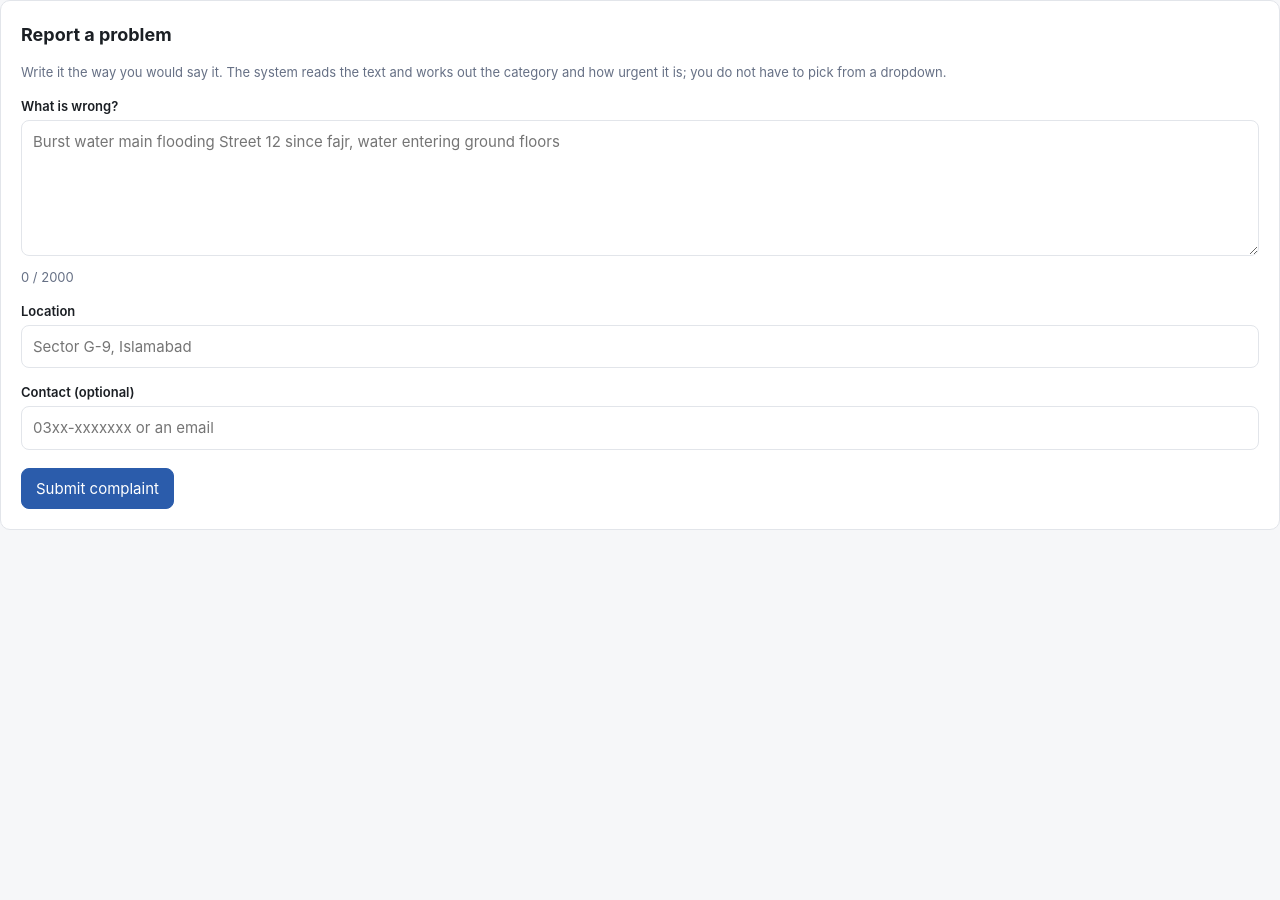
it: SubmitView › shows the 429 body and Retry-After rather than a generic failure
In the text box labelled "What is wrong?": [640, 188] box [21,120,1259,256], type "Street light out for three weeks now"
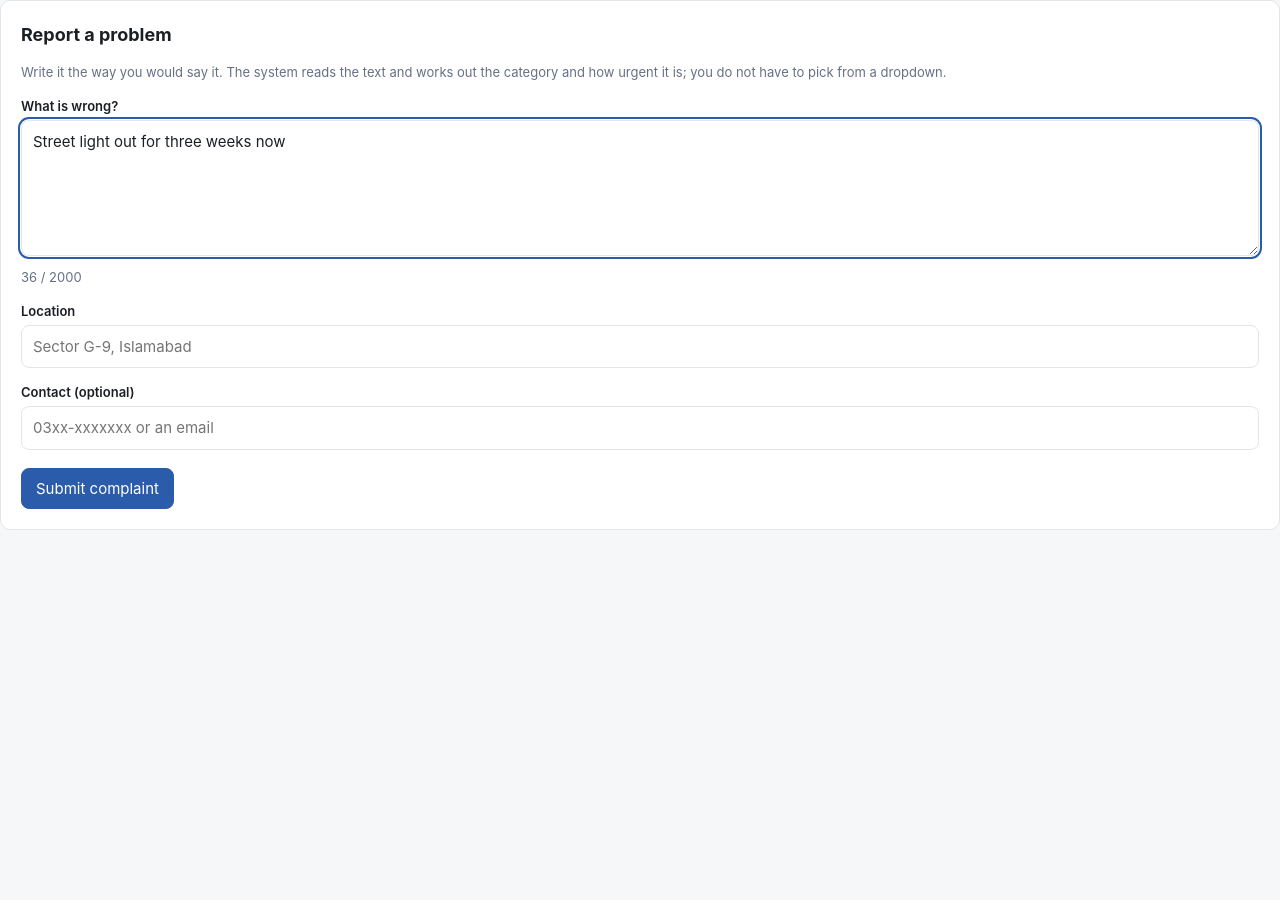
In the field labelled "Location": [640, 347] box [21,325,1259,368], type "Sector F-10"
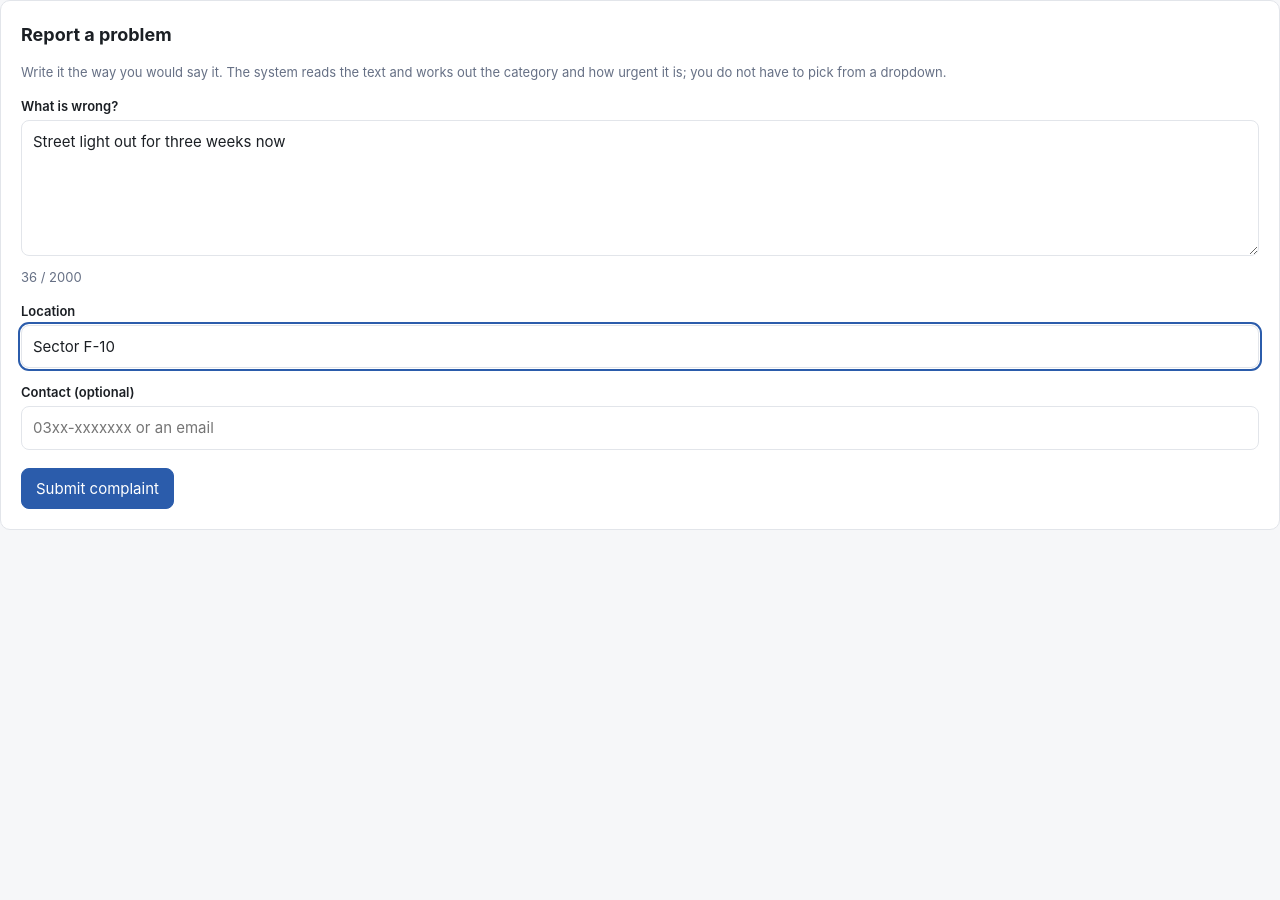
Click the button "Submit complaint": [97, 488] box [21,468,174,509]
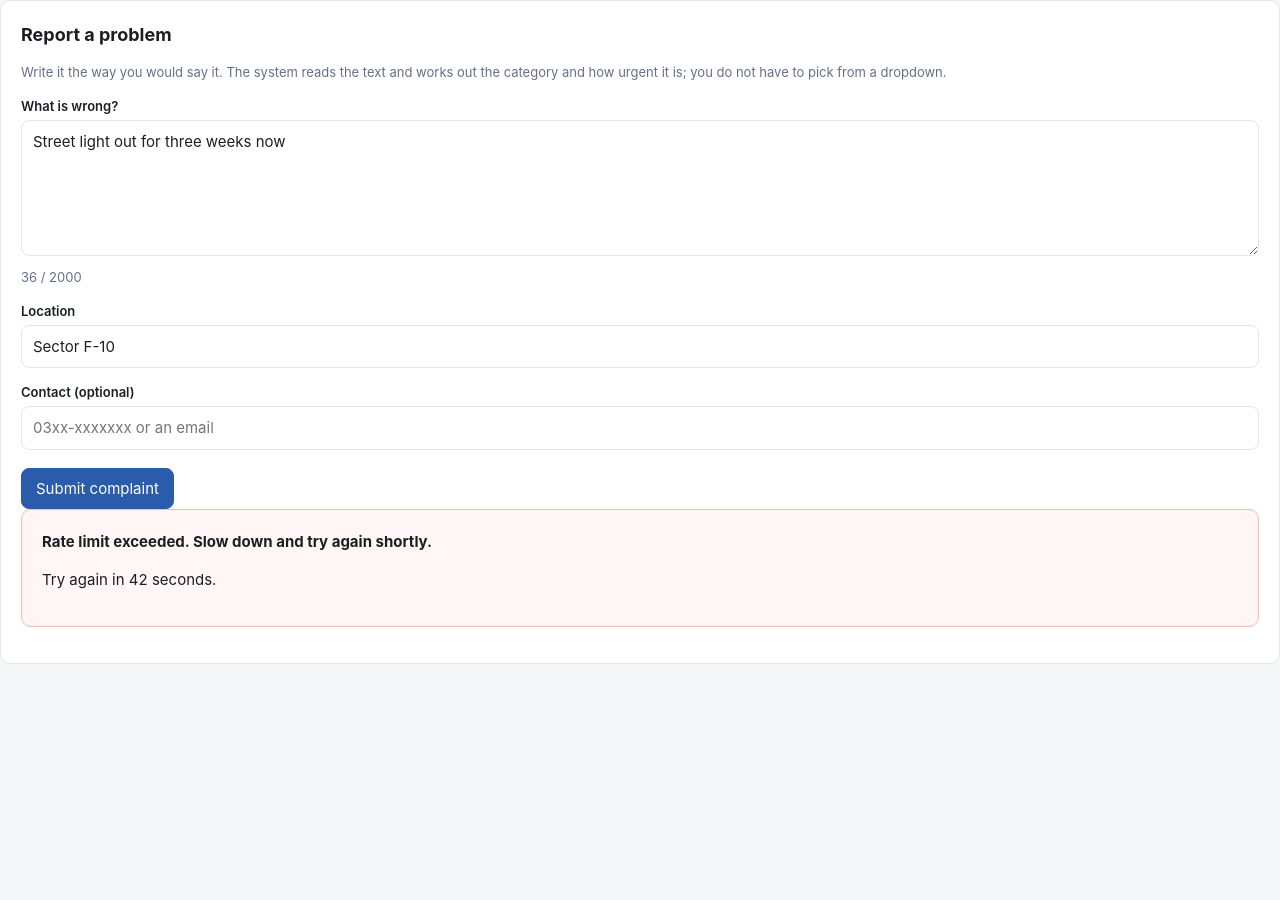
Now the message with test id "server-error" shows "Rate limit exceeded", box [42,532,432,551]
Now the message with test id "server-error" shows "42 seconds", box [21,509,1259,627]
